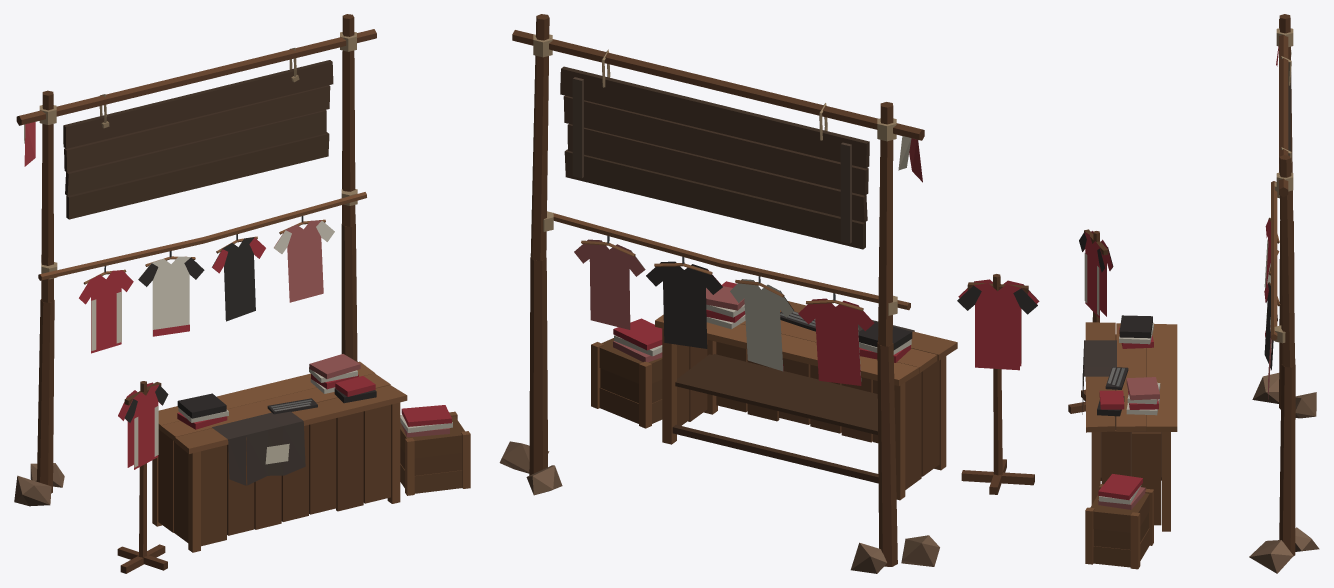
The model's file is tl_furn_stall_apparel_v01.glb.
The picture shows the model from 3 angles, left to right: view 1: azimuth 30°, elevation 25°; view 2: azimuth 150°, elevation 25°; view 3: azimuth 270°, elevation 25°; orthographic projection. The views are drawn at different scales.
Parts seen in each view (by area): view 1: tl_furn_stall_apparel_v01; view 2: tl_furn_stall_apparel_v01; view 3: tl_furn_stall_apparel_v01.
Boxes of the visible parts, x1,y1,x2,y2 form: tl_furn_stall_apparel_v01: (14,14,470,573); tl_furn_stall_apparel_v01: (499,14,1039,573); tl_furn_stall_apparel_v01: (1068,14,1319,573).
Bounding box in the file's own units: 3.31 × 3.36 × 1.93.
